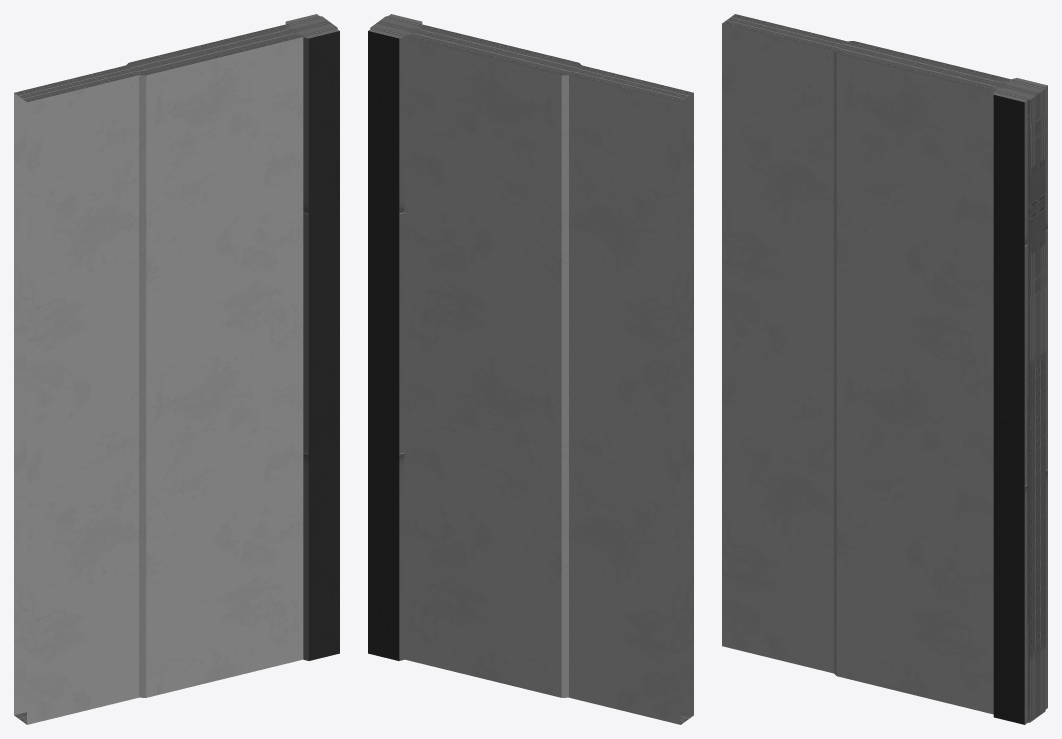
The model's file is S_DoorSimple.gltf.
3 views of the same model, side by side, from view 1: azimuth 30°, elevation 25°; view 2: azimuth 150°, elevation 25°; view 3: azimuth 330°, elevation 25° (orthographic).
Visible parts, largest first — view 1: Cube_053-col; view 2: Cube_053-col; view 3: Cube_053-col.
Boxes of the visible parts, left/top/right/bottom form: Cube_053-col: left=14, top=14, right=339, bottom=724; Cube_053-col: left=368, top=14, right=693, bottom=724; Cube_053-col: left=722, top=14, right=1047, bottom=724.
Size of the model in its own units: 2.11 by 4.05 by 0.2726.
Materials: 3 (3 with a texture image).
